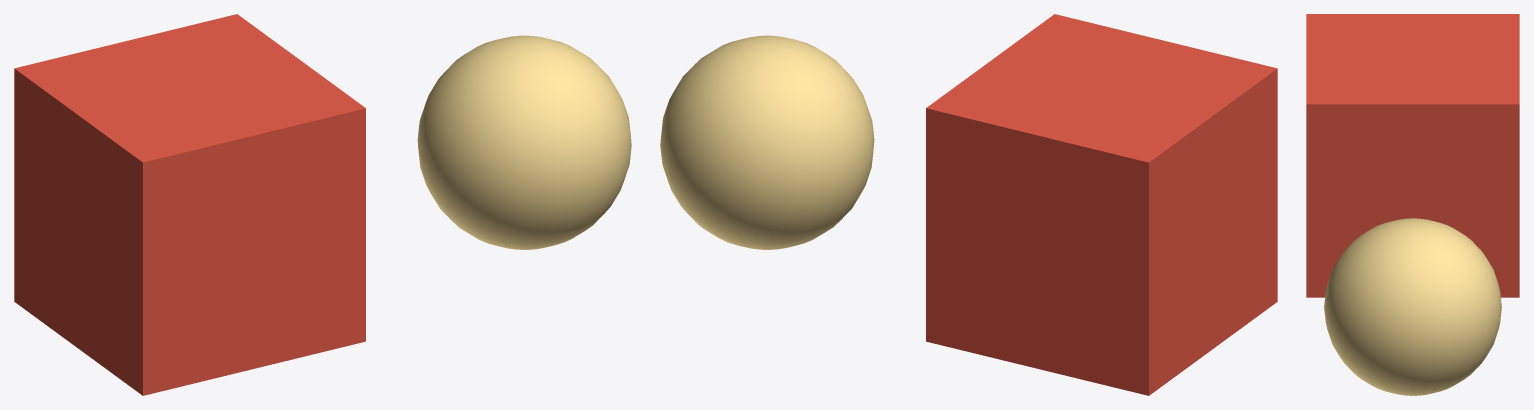
3 views of the same model, side by side, from view 1: azimuth 30°, elevation 25°; view 2: azimuth 150°, elevation 25°; view 3: azimuth 270°, elevation 25° (orthographic). The views are drawn at different scales.
Parts seen in each view (by area): view 1: Cube, Sphere; view 2: Cube, Sphere; view 3: Cube, Sphere.
Part boxes in pixels (x1,y1,x2,y2): Cube: (14, 14, 365, 395); Sphere: (417, 35, 631, 249); Cube: (926, 14, 1277, 395); Sphere: (660, 35, 874, 249); Cube: (1306, 14, 1519, 297); Sphere: (1324, 218, 1501, 395).
Size of what is drawn, in the model's own units: 2.9 by 1.2 by 1.2.
